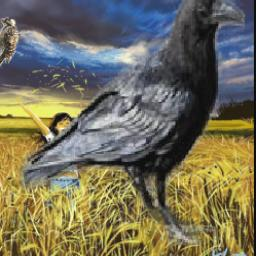Crow: (19, 0, 245, 245)
Woodpecker: (0, 16, 20, 70)
